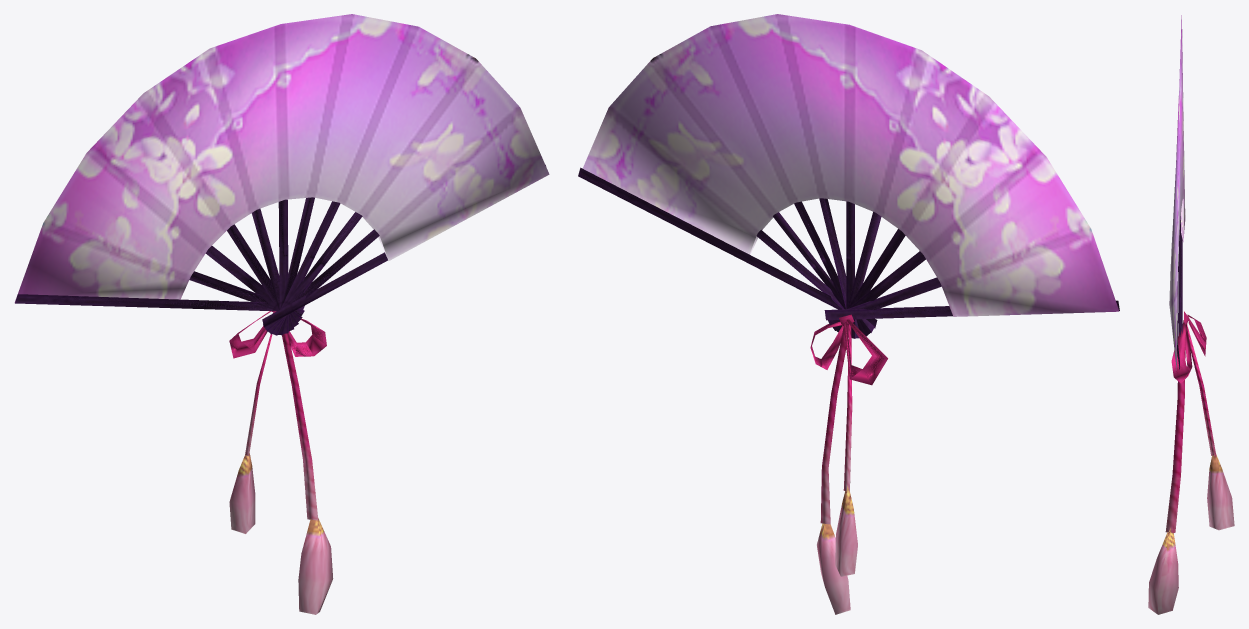
The model's file is 1_Wizard_W_01.FBX.
3 renders of one model, left to right at view 1: azimuth 30°, elevation 25°; view 2: azimuth 150°, elevation 25°; view 3: azimuth 270°, elevation 25°, orthographic. The views are drawn at different scales.
Parts seen in each view (by area): view 1: 1_Wizard_W_01; view 2: 1_Wizard_W_01; view 3: 1_Wizard_W_01.
Boxes of the visible parts, x1=… form: 1_Wizard_W_01: x1=14, y1=14, x2=549, y2=614; 1_Wizard_W_01: x1=578, y1=14, x2=1119, y2=614; 1_Wizard_W_01: x1=1148, y1=15, x2=1234, y2=614.
Size of the model in its own units: 125 by 131 by 18.32.
